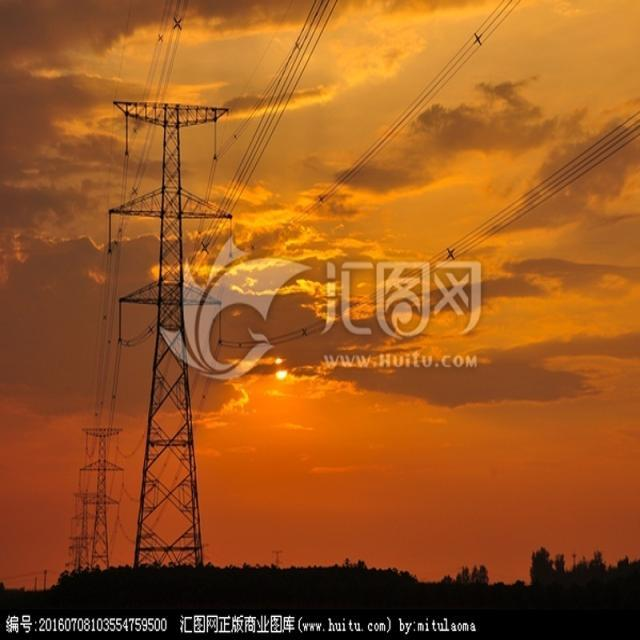non-critical vegetation: (104, 83, 235, 560), (84, 421, 126, 562)
